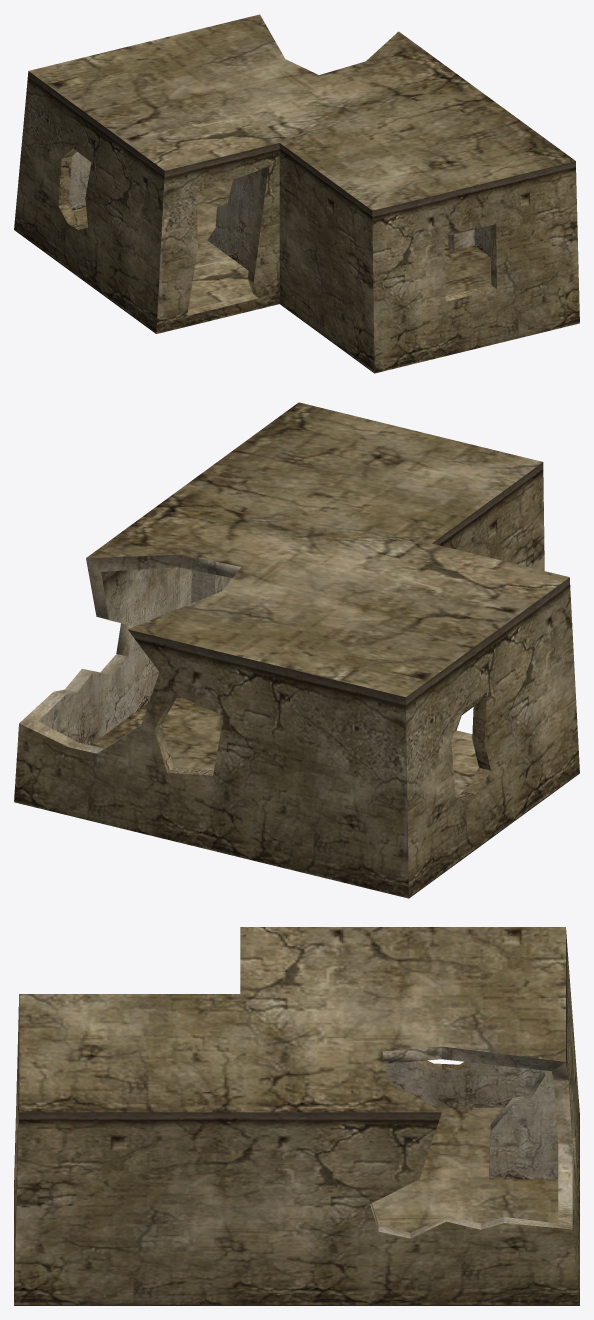
Rendered from Dhut01.glb.
3 views of the same model, one above another, from view 1: azimuth 30°, elevation 25°; view 2: azimuth 150°, elevation 25°; view 3: azimuth 270°, elevation 25° (orthographic). The views are drawn at different scales.
Parts seen in each view (by area): view 1: _Dhut01; view 2: _Dhut01; view 3: _Dhut01.
Boxes of the visible parts, box(x1,y1,x2,y2) form: _Dhut01: box(14, 14, 579, 373); _Dhut01: box(14, 402, 579, 898); _Dhut01: box(14, 927, 579, 1305).
Size of the model in its own units: 8 by 3.75 by 10.
2 materials, 2 textured.
